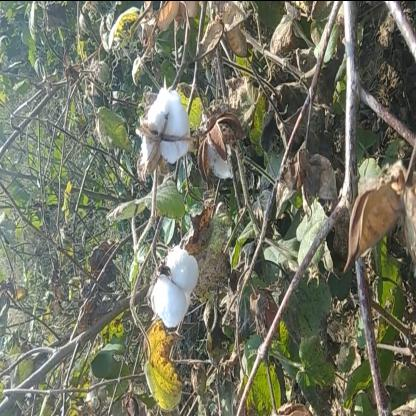cotton_ready: (132, 78, 196, 198), (155, 235, 201, 351)
